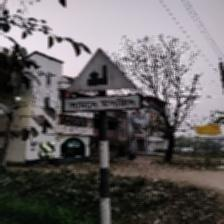Mosque in front: (61, 45, 143, 115)
